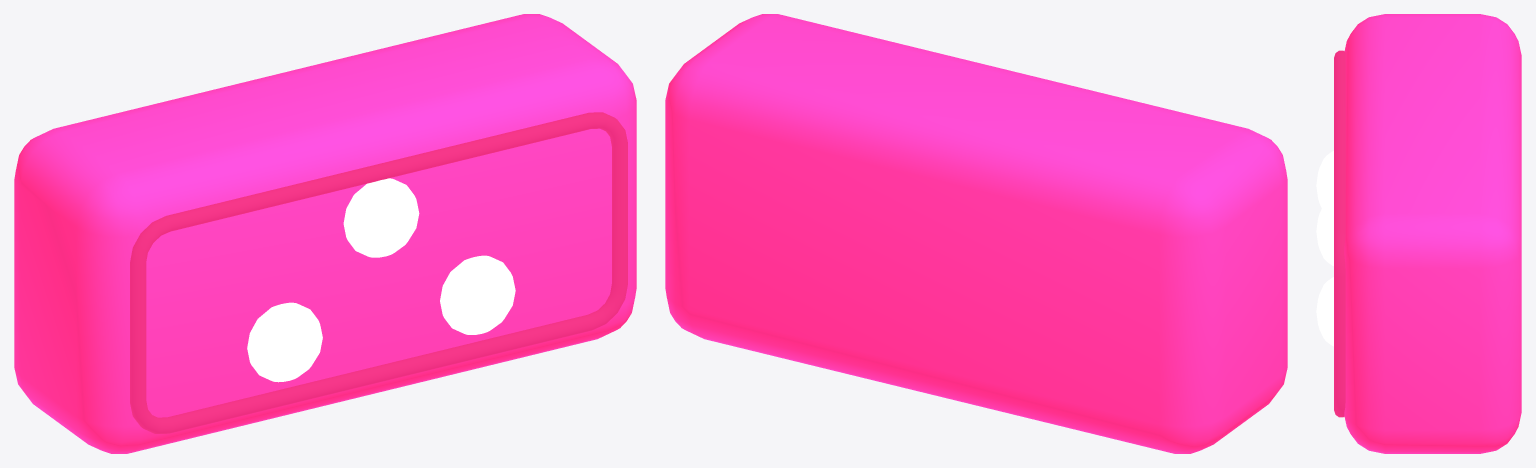
The model's file is brick_triple.glb.
The picture shows the model from 3 angles, left to right: view 1: azimuth 30°, elevation 25°; view 2: azimuth 150°, elevation 25°; view 3: azimuth 270°, elevation 25°; orthographic projection. The views are drawn at different scales.
Visible parts, largest first — view 1: type_triple; view 2: type_triple; view 3: type_triple.
Part boxes in pixels (x1=…): type_triple: x1=14, y1=14, x2=636, y2=453; type_triple: x1=665, y1=14, x2=1287, y2=453; type_triple: x1=1316, y1=14, x2=1521, y2=453.
Bounding box in the file's own units: 0.92 × 0.44 × 0.346.
